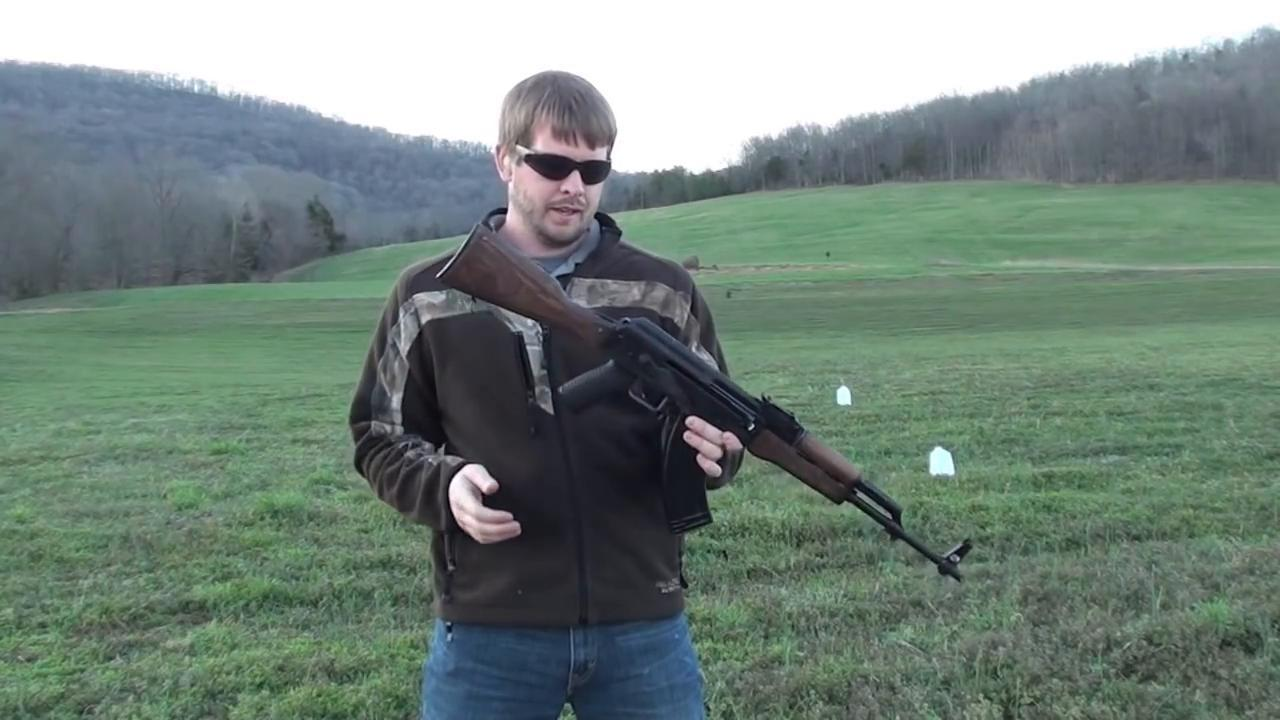AK47 Rifle: (435, 223, 976, 582)
